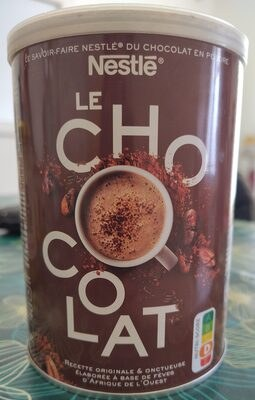Le Choco: (13, 20, 242, 380)
